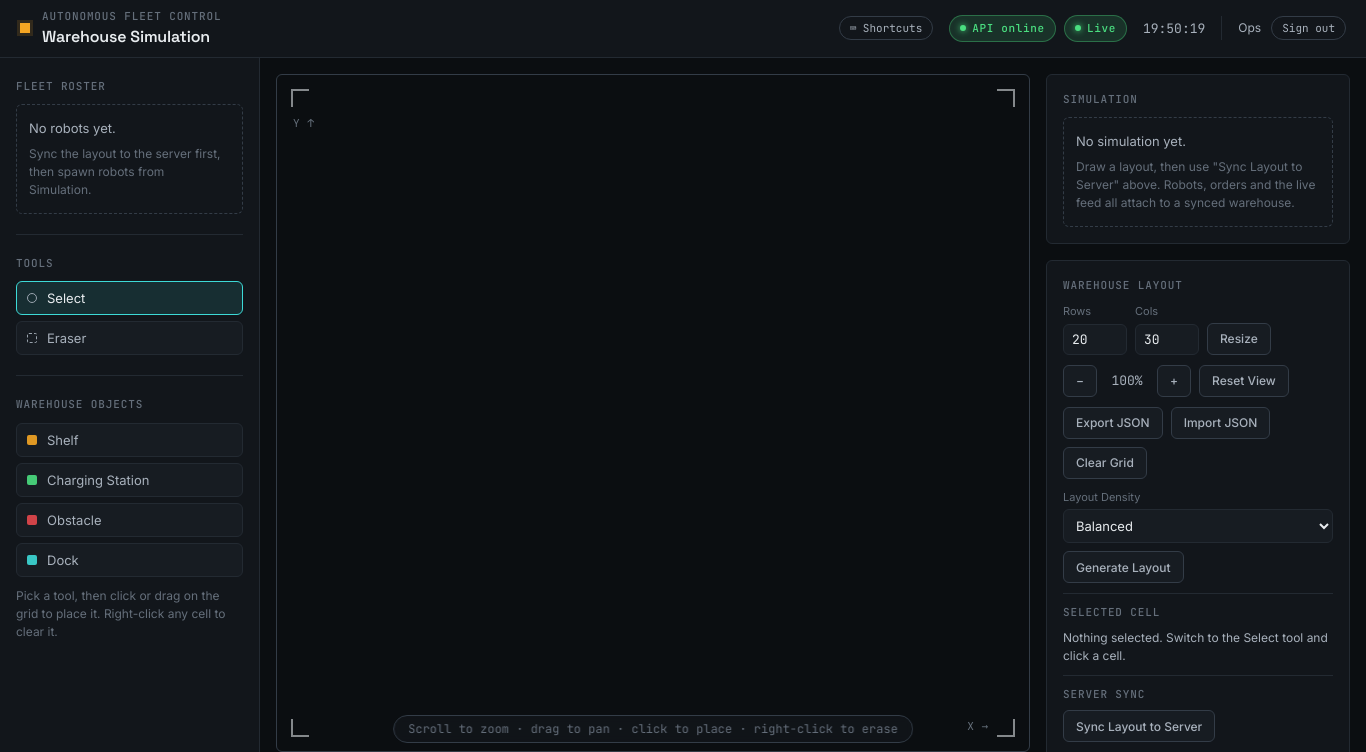
it: simulation start, updates and stop › starts the simulation and reports it as running
The image size is (1366, 752).
Click the button "Sync Layout to Server" at (1139, 726), box [1063,710,1215,742]
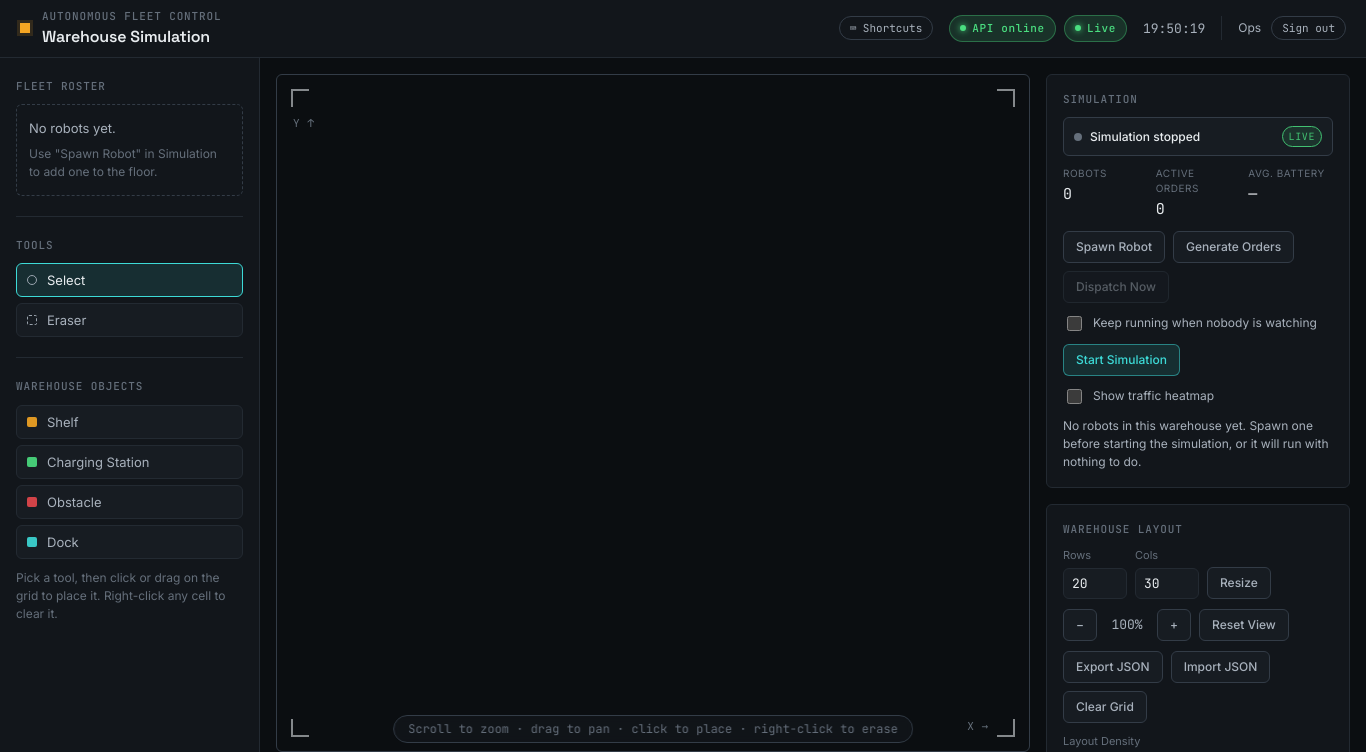
Click the button "Start Simulation" at (1121, 360), box [1063,344,1180,376]
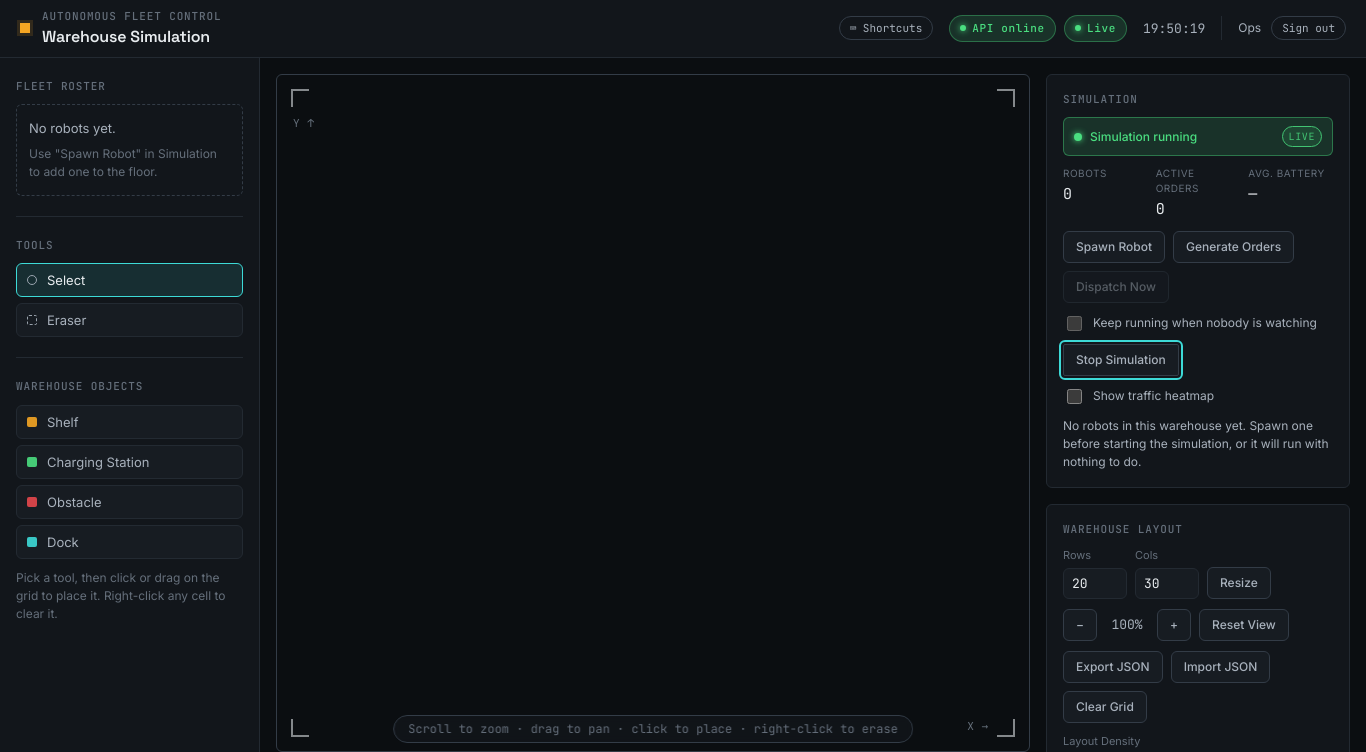
Expected: the text "Simulation running" is shown, [1090,128,1197,144]
Expected: the button "Stop Simulation" is shown, [1063,344,1179,376]
